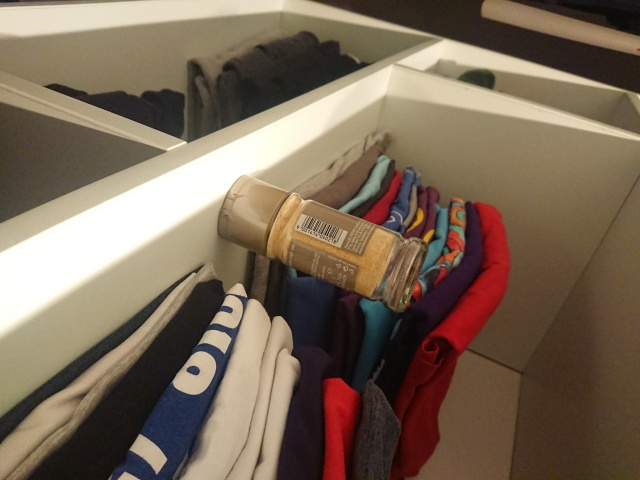Kotanyi Garlic Granules 70g: (216, 173, 431, 315)
